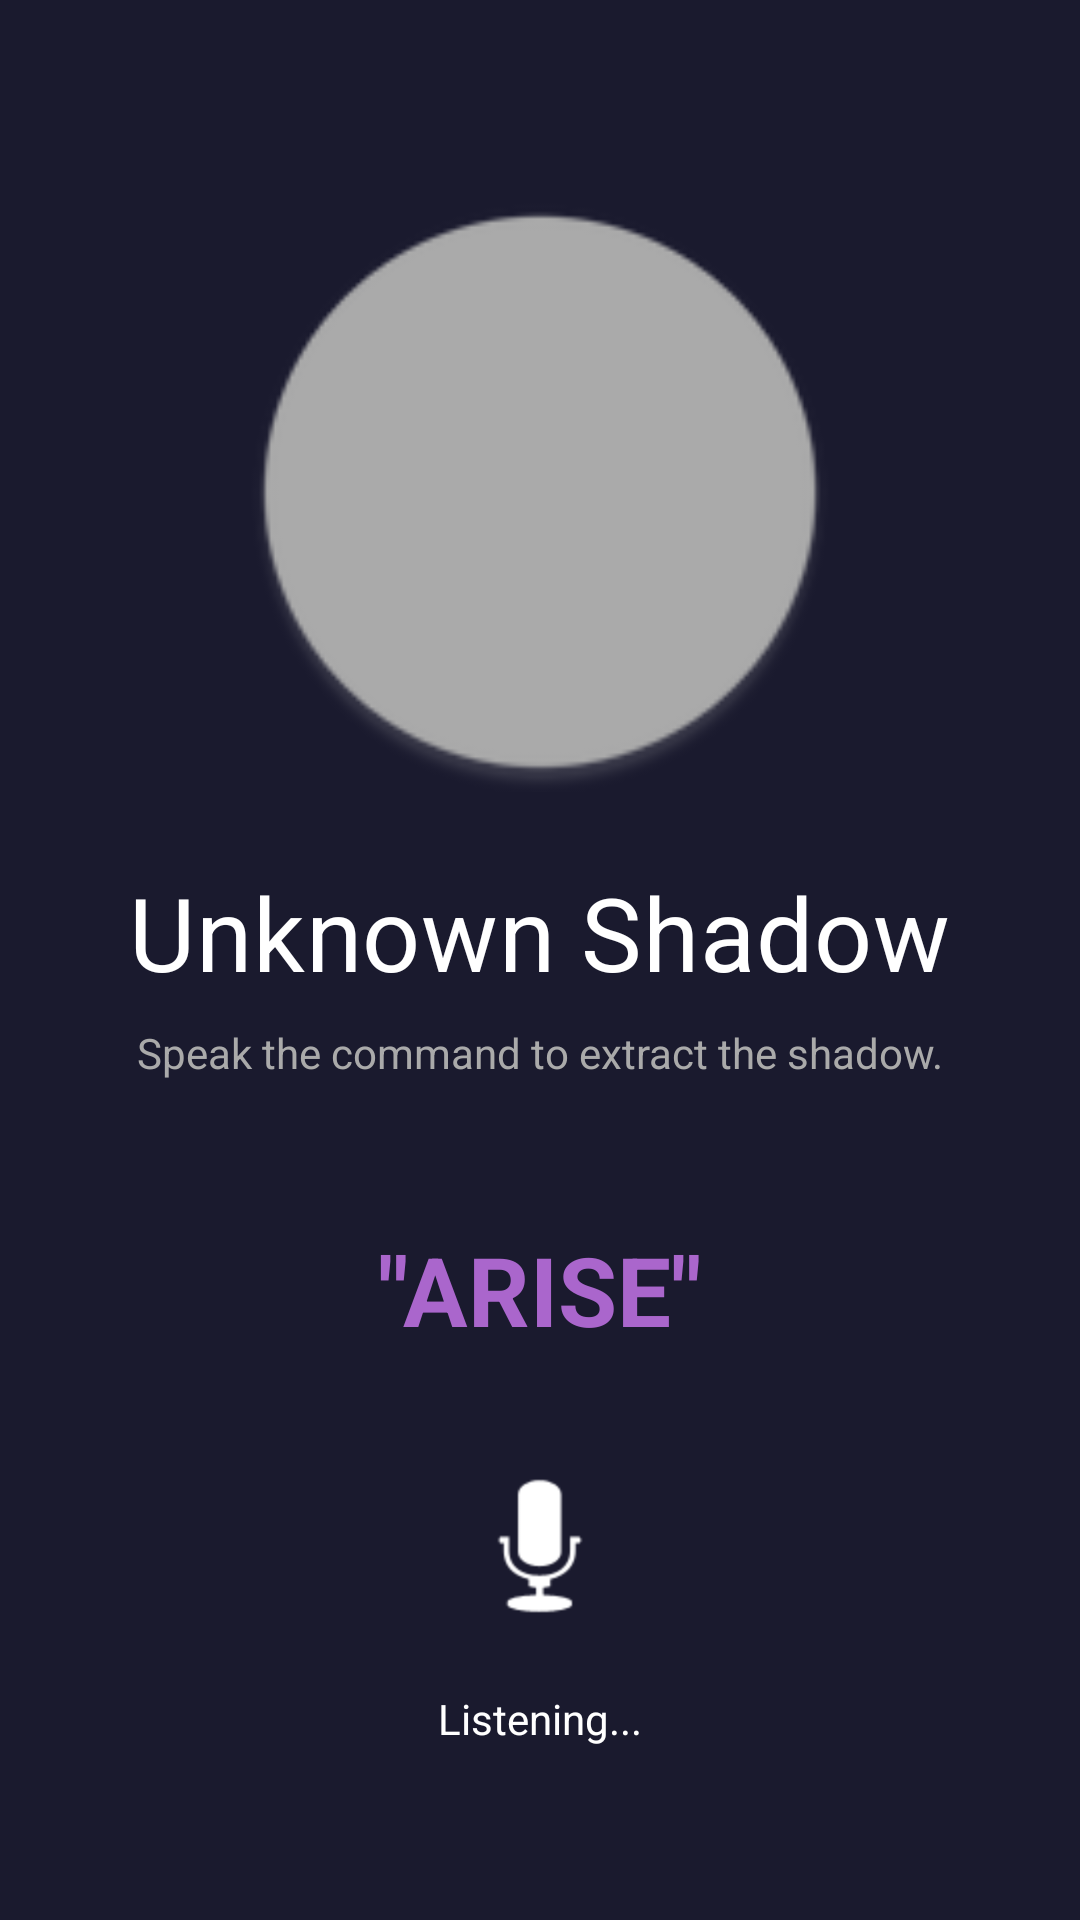

Where icons sit on this 1080 × 1920 app screen, as (x1, y1, x2, y2):
speak now: (498, 1479, 582, 1613)
